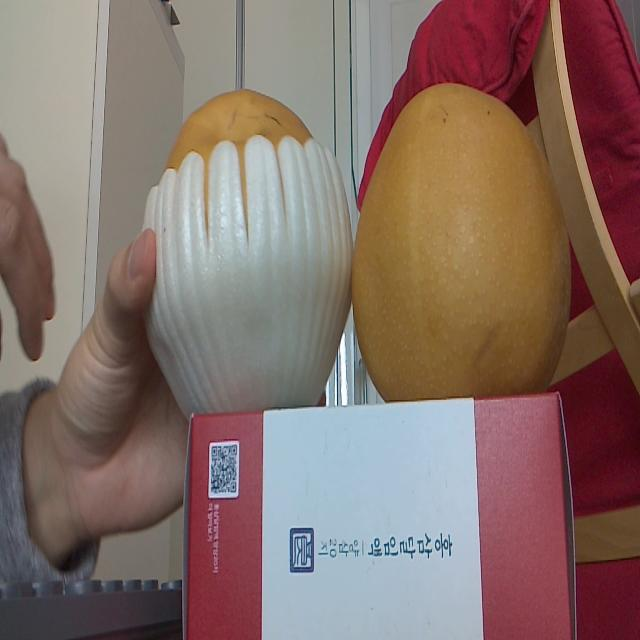pear: (353, 88, 574, 400), (138, 91, 352, 407)
